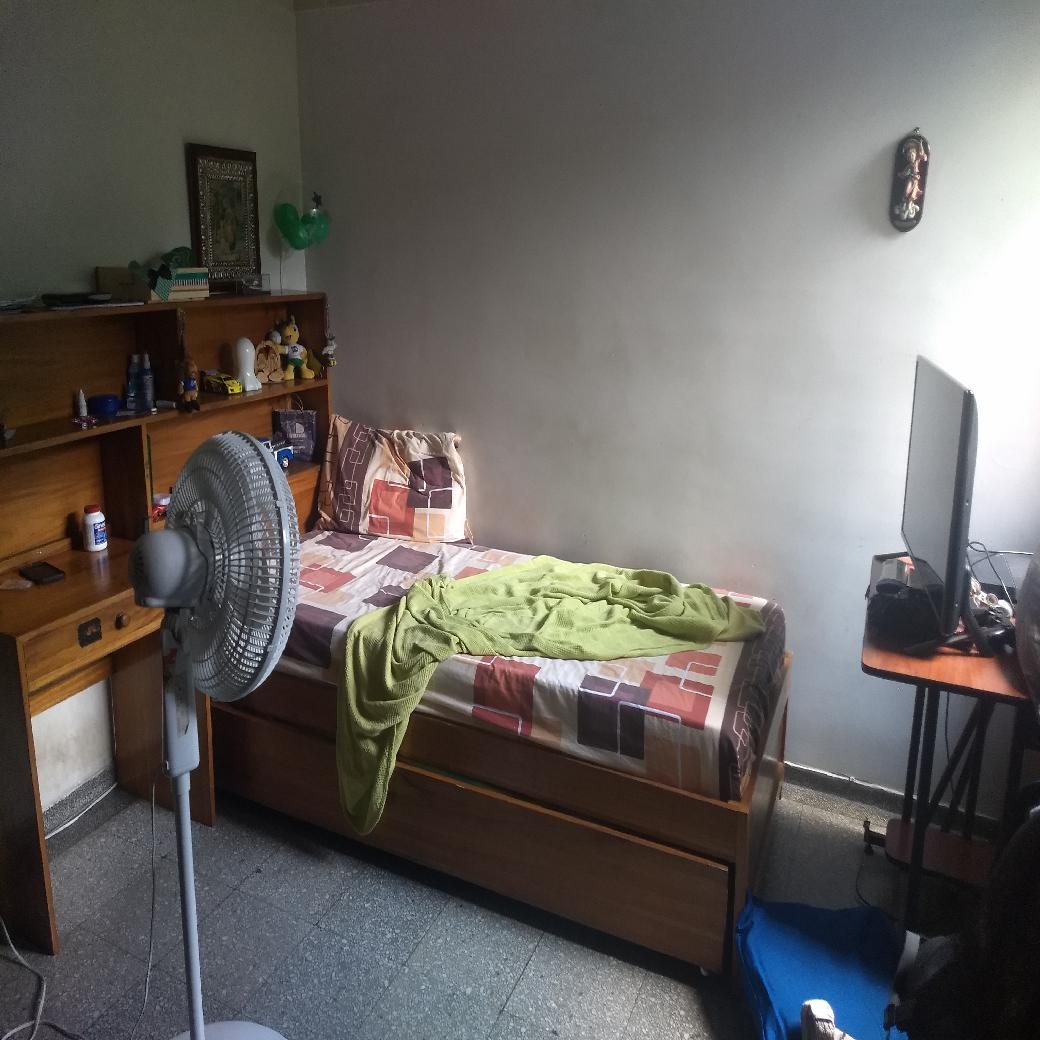tv: (899, 353, 977, 634)
ventilador: (140, 435, 304, 726)
